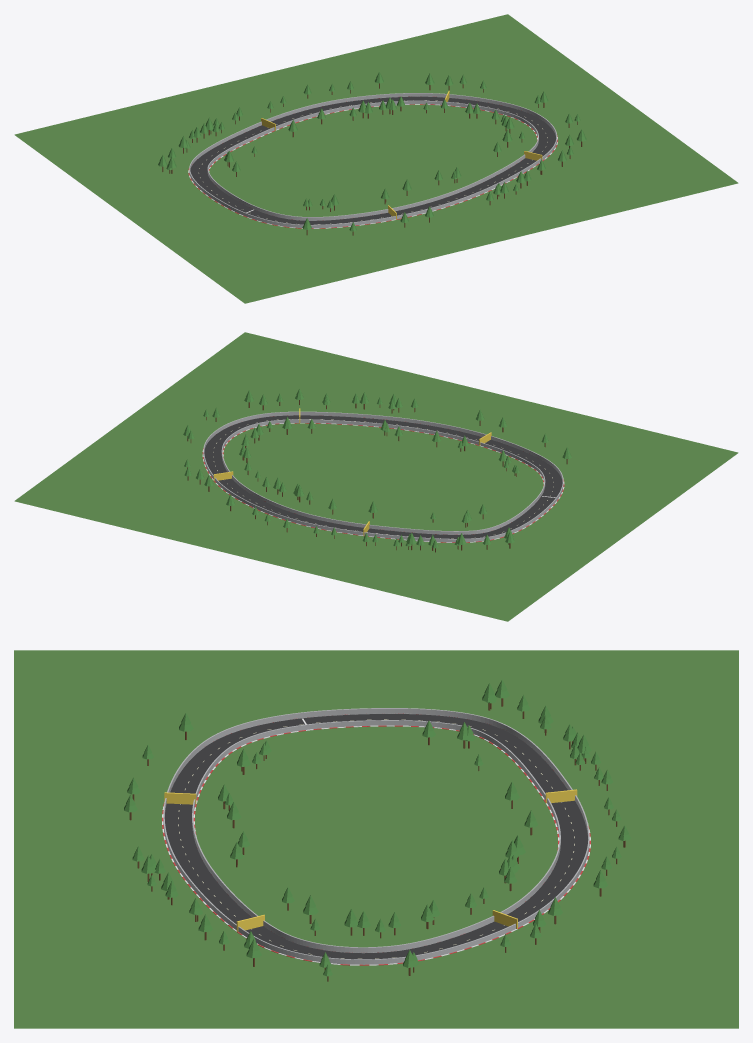
File: racetrack_arcade_big.glb
3 renders of one model, top to bottom at view 1: azimuth 30°, elevation 25°; view 2: azimuth 150°, elevation 25°; view 3: azimuth 270°, elevation 25°, orthographic. The views are drawn at different scales.
Parts seen in each view (by area): view 1: Ground, Road, RightWall, LeftWall; view 2: Ground, Road, RightWall, LeftWall; view 3: Ground, Road, RightWall, LeftWall.
Part boxes in pixels (box(x1,y1,x2,y2)): Ground: box(14, 14, 738, 303); Road: box(190, 96, 556, 224); RightWall: box(189, 93, 557, 228); LeftWall: box(207, 100, 538, 220); Ground: box(14, 332, 738, 621); Road: box(204, 415, 562, 538); RightWall: box(203, 411, 563, 542); LeftWall: box(221, 419, 545, 534); Ground: box(14, 650, 738, 1028); Road: box(164, 714, 588, 959); RightWall: box(163, 708, 589, 964); LeftWall: box(192, 720, 560, 953).
Bounding box in the file's own units: 392 × 13.92 × 317.
